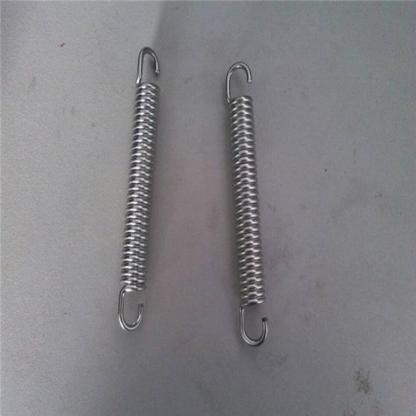FOD: (113, 46, 164, 336), (224, 58, 270, 351)
